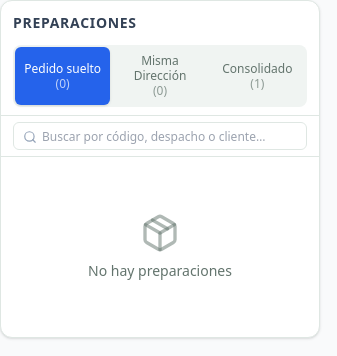
Scenario: PendingSidebar — tarjetas › en la pestaña consolidado, el importe mostrado es el total de la prep (no el del pedido)
This screenshot has width=337, height=356.
Click the tab "Consolidado (1)": point(257, 76) [210,47,305,105]
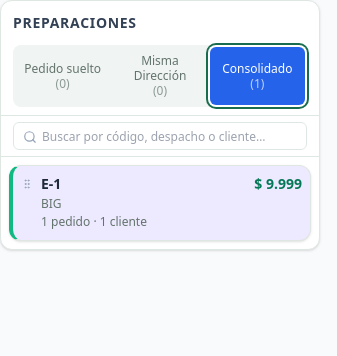
Expected: the text "$ 9.999" is shown, [254,174,302,194]
